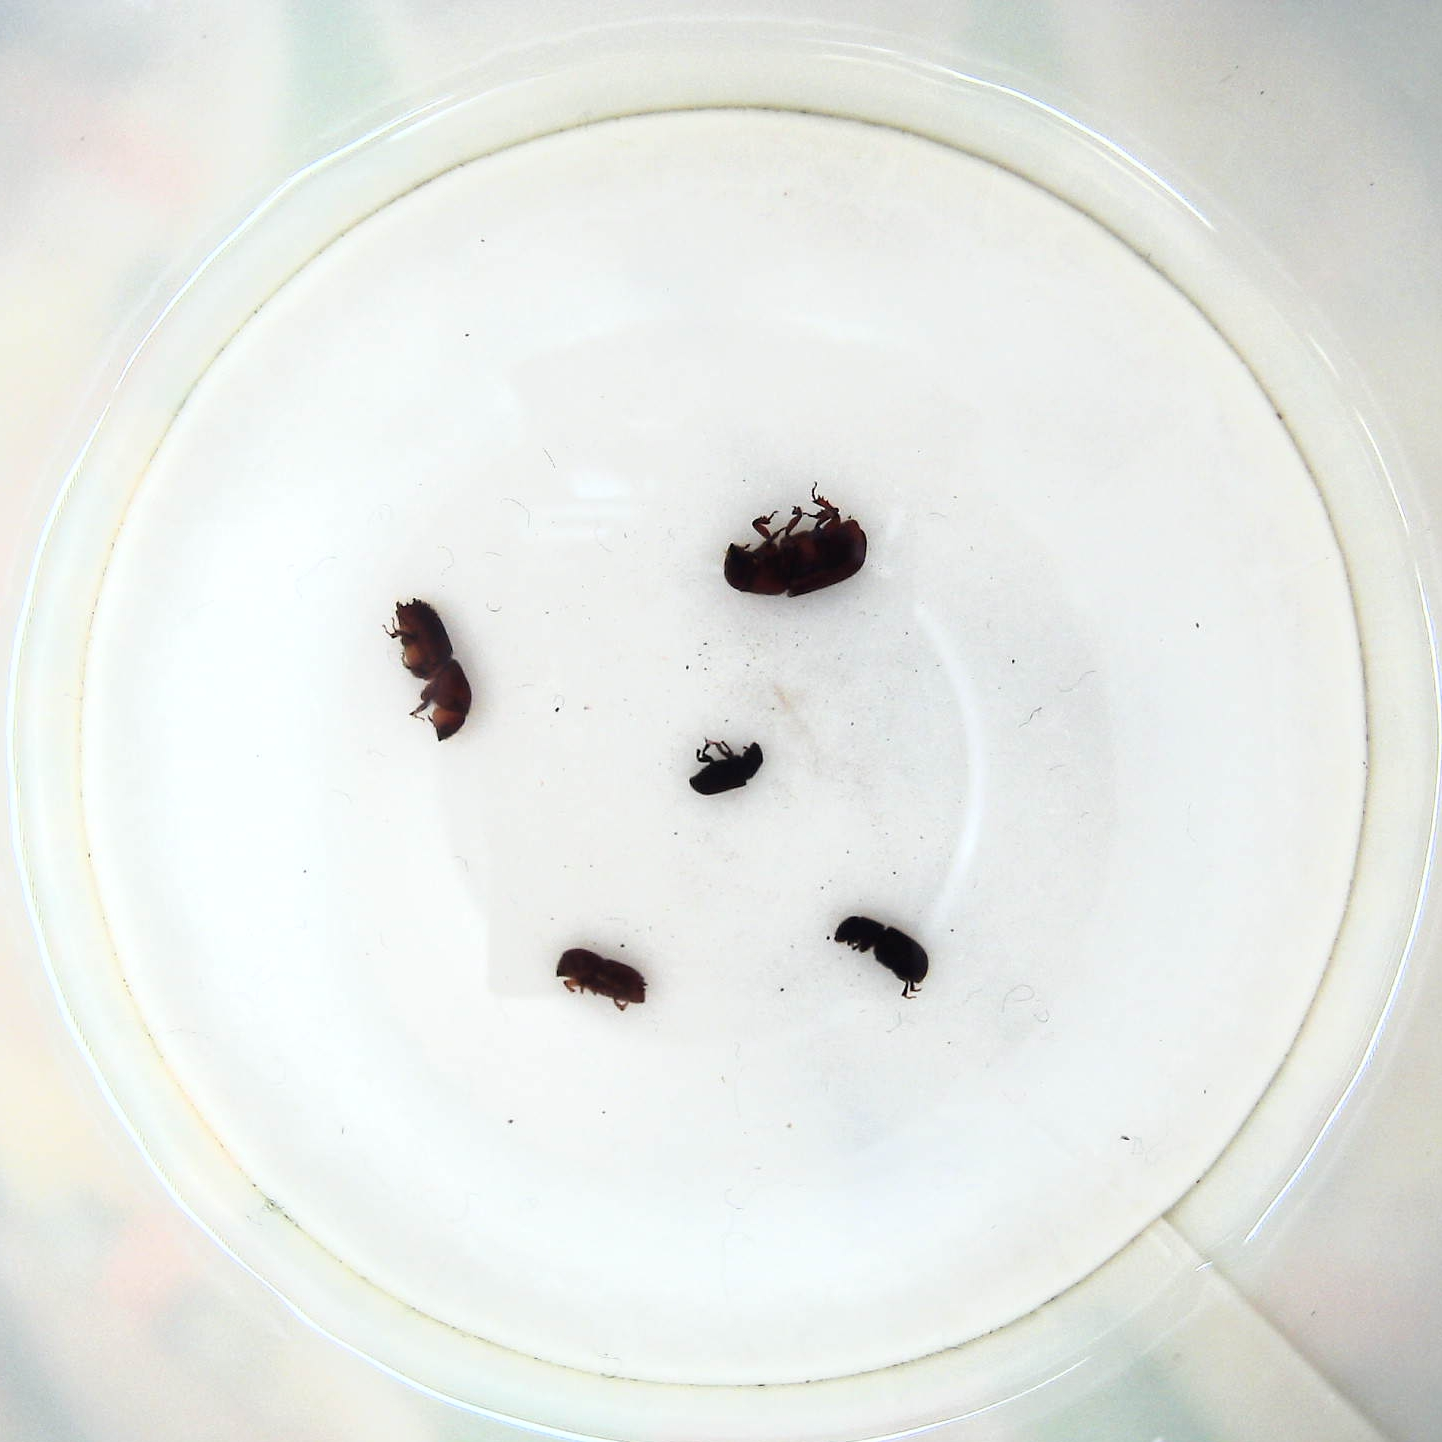Boerner: (386, 596, 478, 743)
Leconte: (720, 487, 873, 603)
armandi: (829, 914, 932, 996)
coleoptera: (688, 736, 771, 799)
linnaeus: (551, 943, 648, 1012)
